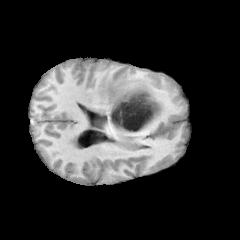glioma: (86, 70, 161, 149)
